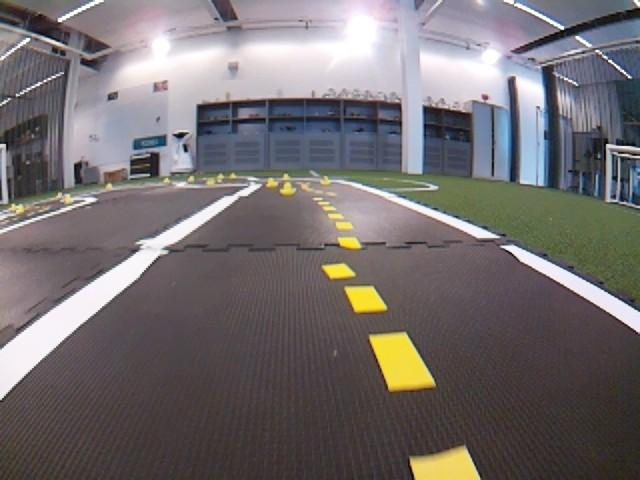Duckies: (279, 181, 297, 196), (266, 178, 278, 187), (320, 176, 331, 185), (64, 196, 74, 204), (282, 173, 291, 180), (16, 206, 25, 213), (229, 172, 236, 180), (206, 179, 215, 185), (106, 182, 112, 191), (9, 204, 18, 210), (187, 176, 195, 182), (217, 173, 223, 180), (163, 178, 170, 183), (57, 192, 62, 199)
